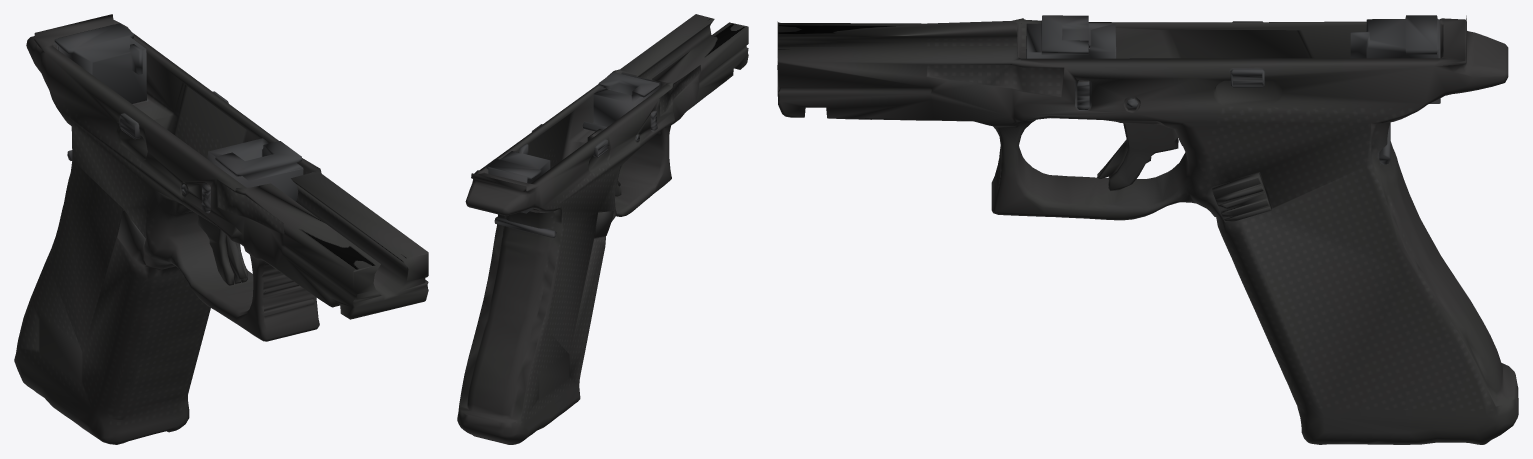
File: SM_G17_Frame_LOD2.fbx
The picture shows the model from 3 angles, left to right: view 1: azimuth 30°, elevation 25°; view 2: azimuth 150°, elevation 25°; view 3: azimuth 270°, elevation 25°; orthographic projection. The views are drawn at different scales.
Visible parts, largest first — view 1: SM_G17_Frame_LOD2; view 2: SM_G17_Frame_LOD2; view 3: SM_G17_Frame_LOD2.
Boxes of the visible parts, x1,y1,x2,y2 form: SM_G17_Frame_LOD2: [14, 14, 428, 444]; SM_G17_Frame_LOD2: [457, 14, 748, 444]; SM_G17_Frame_LOD2: [777, 15, 1518, 444].
Size of the model in its own units: 3.19 by 18.73 by 11.28.
